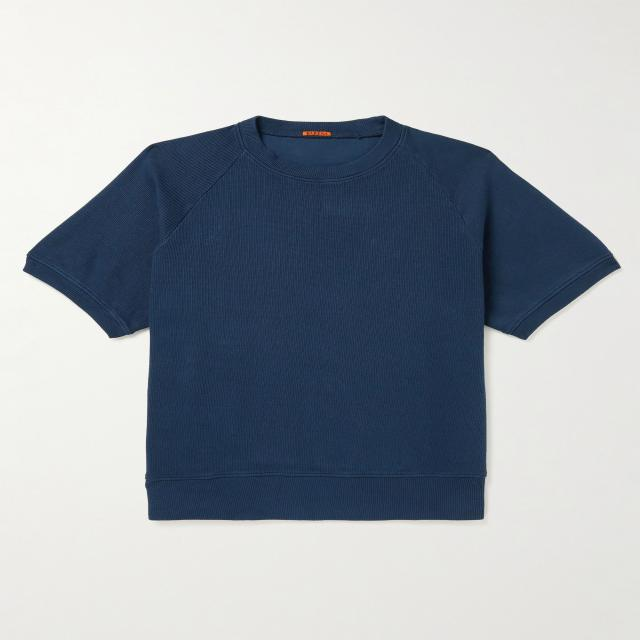tshirt: (22, 115, 620, 523)
